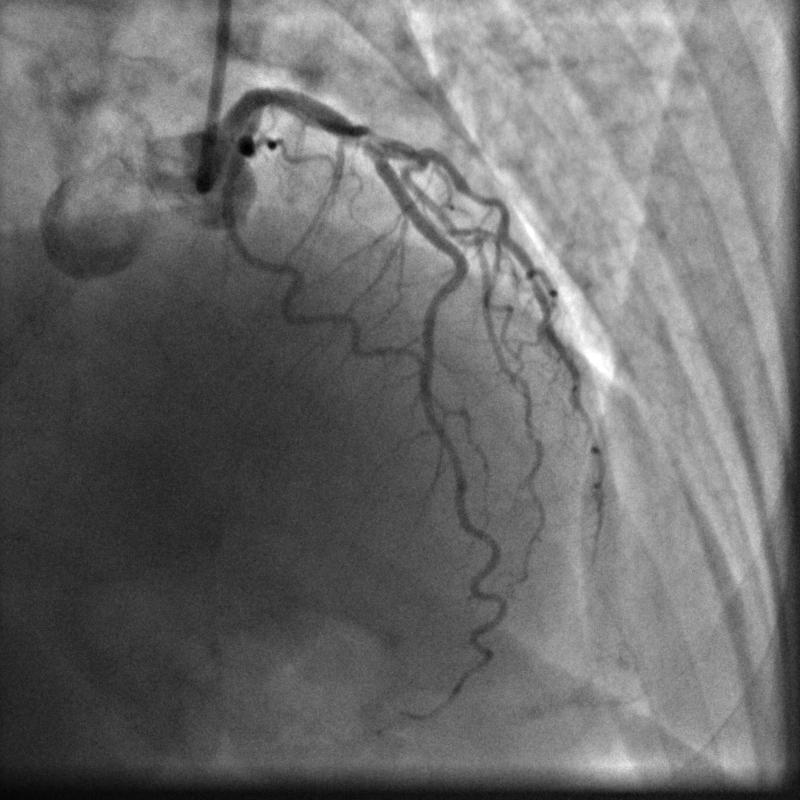Stenosis: (356, 121, 372, 152)
